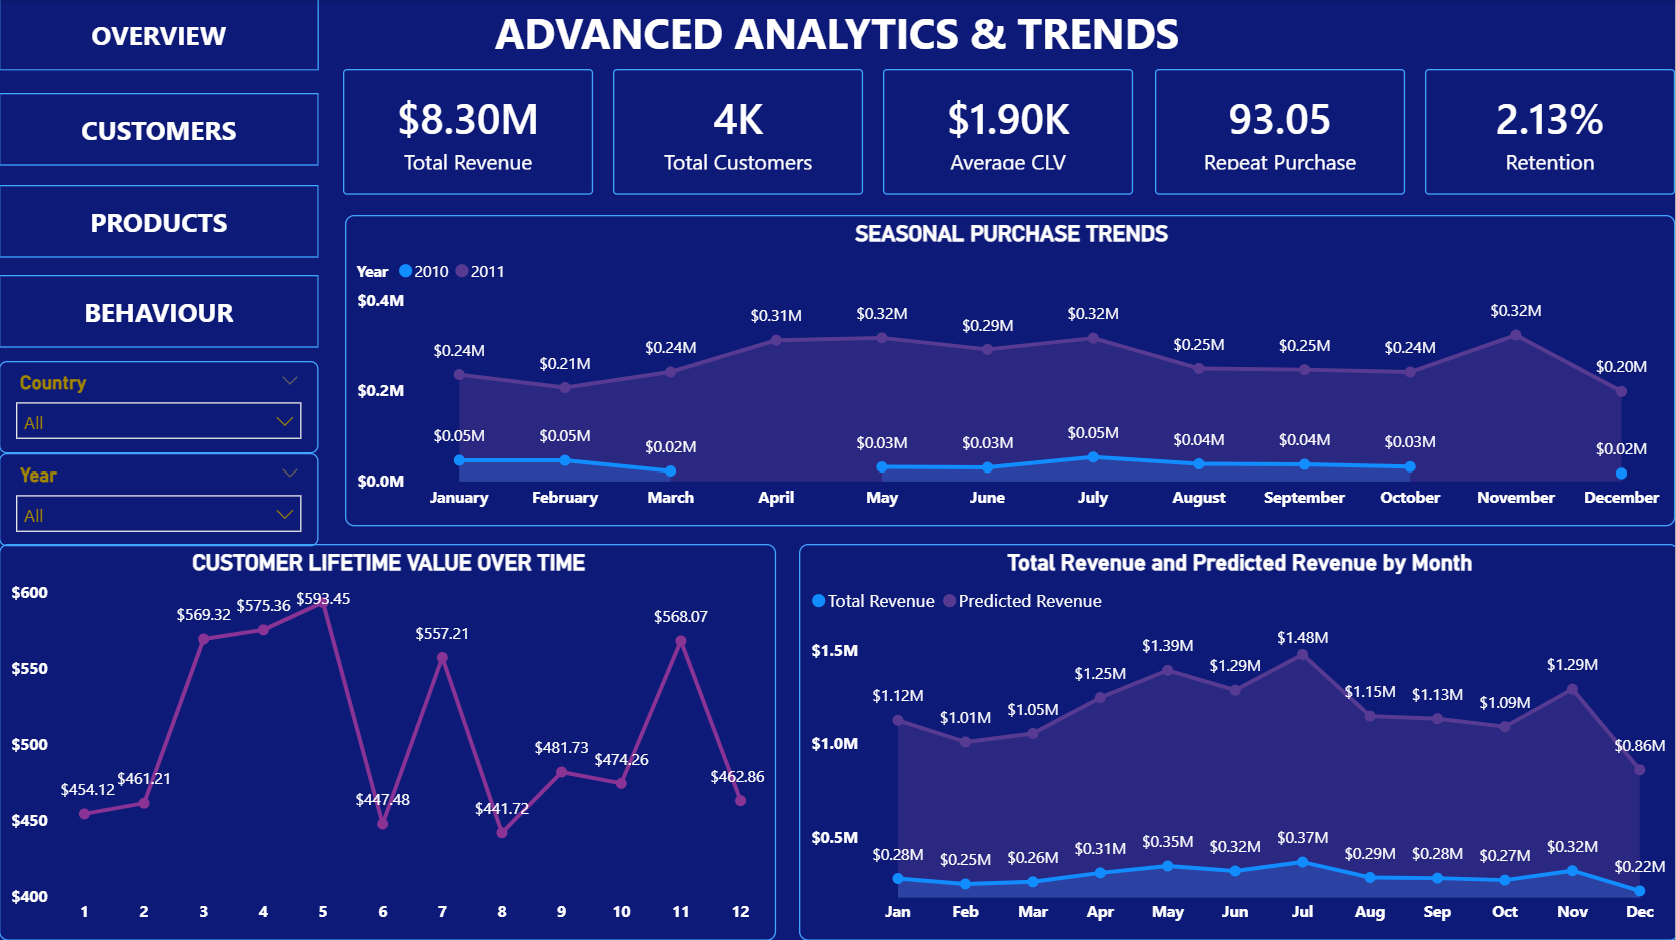

The page's visual inventory and layout, read from the dashboard file:
{"tool":"powerbi","page":{"name":"BEHAVIOUR","canvas":[1280,720],"ordinal":3},"visuals":[{"type":"textbox","box":[0,0,1280,55.5],"z":0},{"type":"cardVisual","fields":{"Data":["data.Total Revenue"]},"box":[262.7,55.5,191,96],"z":1000},{"type":"cardVisual","fields":{"Data":["data.Total Customers"]},"box":[469.2,55.5,191,96],"z":2000},{"type":"cardVisual","fields":{"Data":["data.Average CLV"]},"box":[675.8,55.5,191,96],"z":3000},{"type":"cardVisual","fields":{"Data":["data.Repeat Purchase"]},"box":[882.4,55.5,191,96.2],"z":4000},{"type":"cardVisual","fields":{"Data":["data.Retention"]},"box":[1089,55.5,191,96],"z":5000},{"type":"lineChart","title":"SEASONAL PURCHASE TRENDS","fields":{"Y":["data.Total Revenue"],"Series":["data.Year"],"Category":["data.InvoiceDate.Variation.Date Hierarchy.Month"]},"box":[263.8,166.1,1016.2,236.9],"z":6000},{"type":"lineChart","title":"CUSTOMER LIFETIME VALUE OVER TIME","fields":{"Category":["data.Month_Number"],"Y":["data.Average CLV"]},"box":[0,417.7,593.6,302.9],"z":7000},{"type":"lineChart","fields":{"Category":["data.Month"],"Y":["data.Total Revenue","data.Predicted Revenue"]},"box":[610.7,417.7,671.8,302.9],"z":8000},{"type":"actionButton","box":[0,0,244.3,56.2],"z":9000},{"type":"actionButton","box":[0,74,244.2,55.5],"z":10000},{"type":"actionButton","box":[0,144.3,244.2,55.5],"z":11000},{"type":"actionButton","box":[0,212.7,244.2,55.5],"z":12000},{"type":"slicer","fields":{"Values":["data.Country"]},"box":[0,277.5,244.2,70.3],"z":13000},{"type":"slicer","fields":{"Values":["data.Year"]},"box":[0,347.7,244.2,70.3],"z":14000}]}

Visuals, with their boxes in screenshot pixels (x1, y1, x2, y2), scaled from the page's 1280x720 canvas onto the 1676x940 screenshot:
textbox: BBox(0, 0, 1675, 72)
cardVisual - data.Total Revenue: BBox(344, 72, 594, 198)
cardVisual - data.Total Customers: BBox(614, 72, 864, 198)
cardVisual - data.Average CLV: BBox(885, 72, 1135, 198)
cardVisual - data.Repeat Purchase: BBox(1155, 72, 1405, 198)
cardVisual - data.Retention: BBox(1426, 72, 1675, 198)
"SEASONAL PURCHASE TRENDS" lineChart: BBox(345, 217, 1675, 526)
"CUSTOMER LIFETIME VALUE OVER TIME" lineChart: BBox(0, 545, 777, 939)
lineChart - data.Month x data.Total Revenue: BBox(800, 545, 1675, 939)
actionButton: BBox(0, 0, 320, 73)
actionButton: BBox(0, 97, 320, 169)
actionButton: BBox(0, 188, 320, 261)
actionButton: BBox(0, 278, 320, 350)
slicer - data.Country: BBox(0, 362, 320, 454)
slicer - data.Year: BBox(0, 454, 320, 546)
